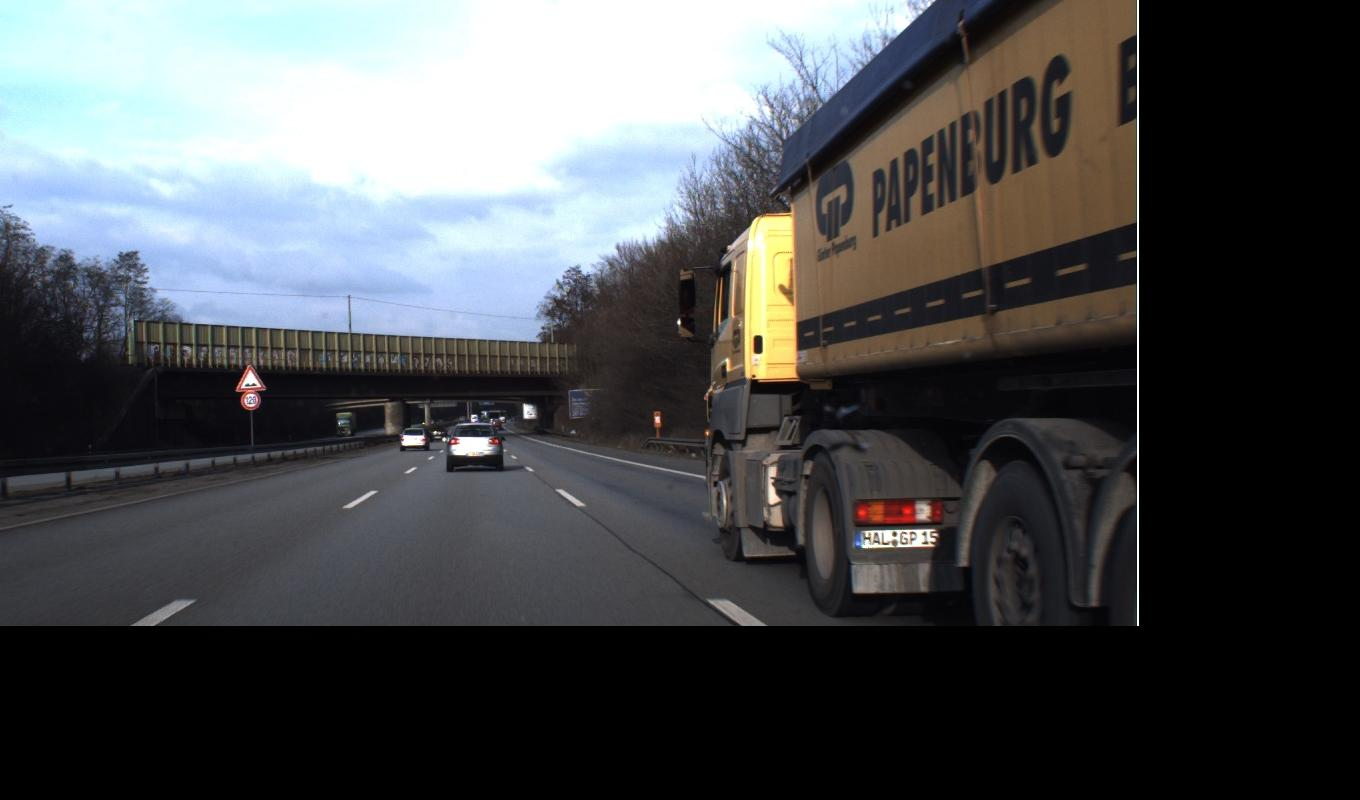uneven road: (234, 363, 267, 411)
